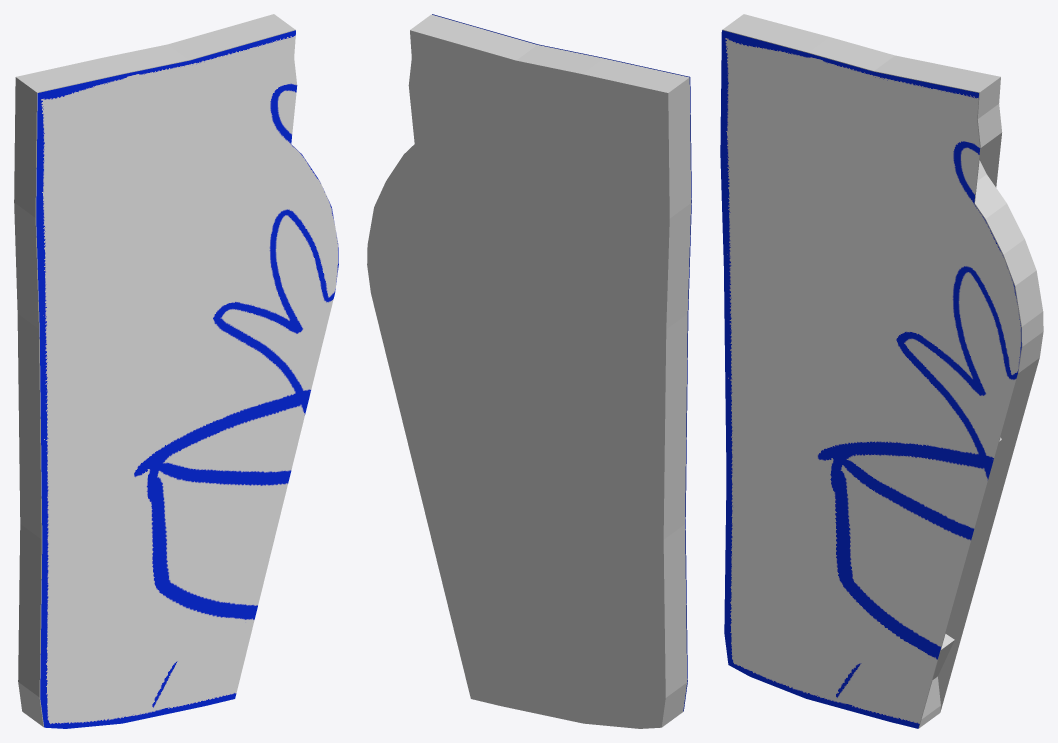
3 views of the same model, side by side, from view 1: azimuth 30°, elevation 25°; view 2: azimuth 150°, elevation 25°; view 3: azimuth 330°, elevation 25° (orthographic).
Parts seen in each view (by area): view 1: Out_1_1, Out_1_0; view 2: Out_1_0, Out_1_1; view 3: Out_1_1, Out_1_0.
Part boxes in pixels (x1,y1,x2,y2): Out_1_1: (36, 30, 338, 728); Out_1_0: (14, 14, 295, 727); Out_1_0: (367, 14, 691, 728); Out_1_1: (432, 14, 691, 711); Out_1_1: (720, 30, 1021, 728); Out_1_0: (722, 14, 1043, 728).
Bounding box in the file's own units: 4.07 × 8.41 × 0.515.
2 materials, 1 textured.
